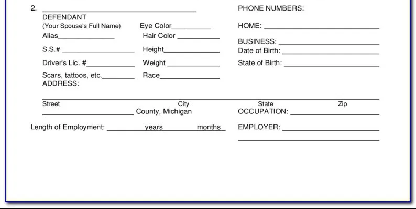textline: (41, 92, 380, 100), (237, 133, 380, 143), (41, 5, 198, 13), (104, 122, 227, 132), (278, 36, 380, 46), (40, 106, 136, 116), (262, 22, 381, 30), (289, 106, 381, 116), (281, 46, 381, 55), (282, 59, 382, 68), (282, 122, 381, 131), (61, 46, 135, 54), (158, 71, 221, 80), (162, 44, 221, 53), (57, 31, 115, 40), (167, 59, 221, 67), (85, 59, 136, 67), (176, 31, 221, 40), (169, 21, 210, 29), (100, 71, 136, 80)
